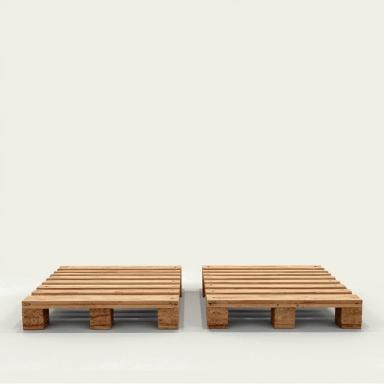pallet: (22, 265, 182, 330), (202, 265, 362, 329)
